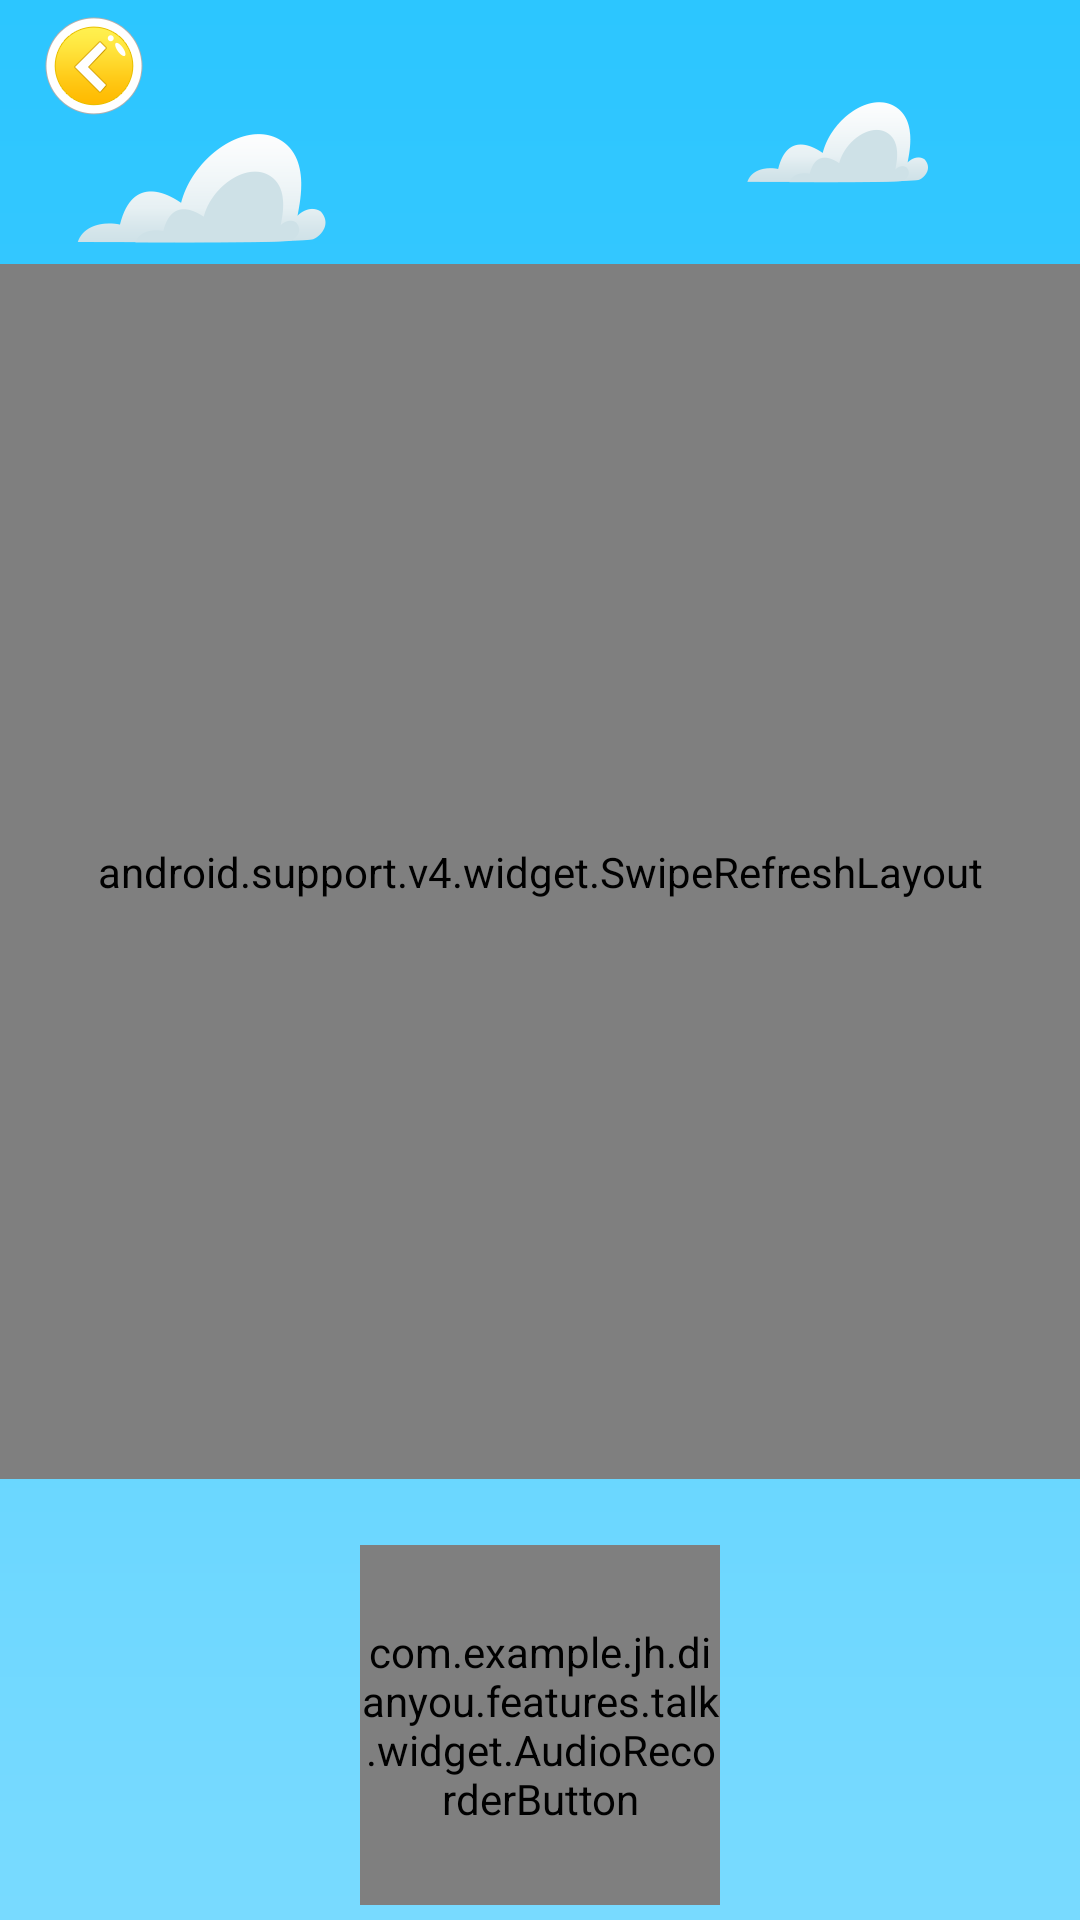

Where icons sit on this 1080*1920 app screen, as [left=x1, top=y1, right=x2, bottom=y2]:
back: [left=45, top=17, right=143, bottom=115]
